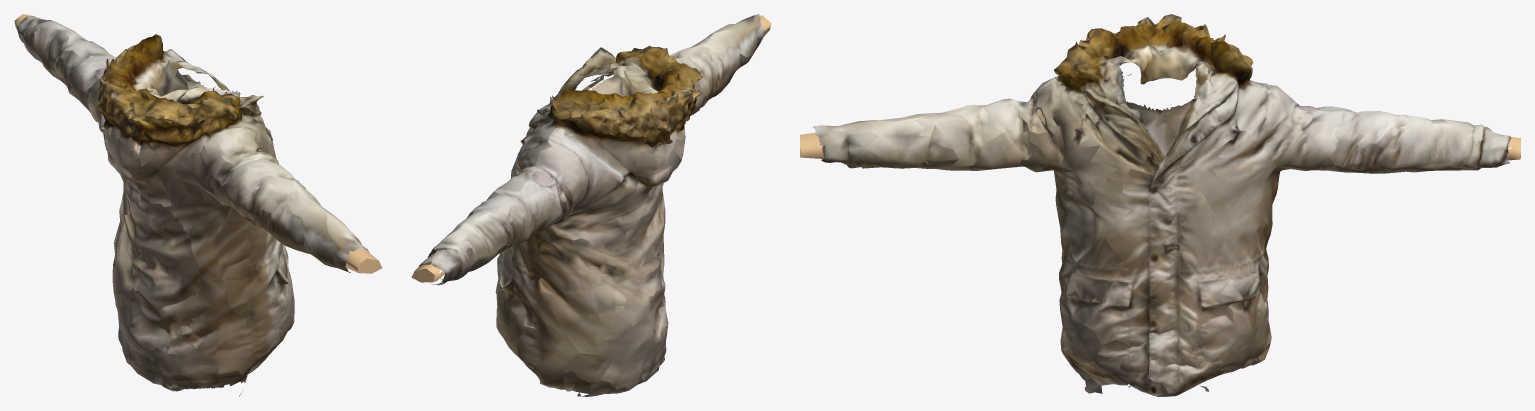
The model's file is coat.glb.
The picture shows the model from 3 angles, left to right: view 1: azimuth 30°, elevation 25°; view 2: azimuth 150°, elevation 25°; view 3: azimuth 270°, elevation 25°; orthographic projection. The views are drawn at different scales.
Parts seen in each view (by area): view 1: Torso.002; view 2: Torso.002; view 3: Torso.002.
Part boxes in pixels (left/top/right/bottom): Torso.002: left=14, top=14, right=382, bottom=396; Torso.002: left=411, top=14, right=771, bottom=396; Torso.002: left=800, top=14, right=1520, bottom=396.
Size of the model in its own units: 0.6019 by 1.02 by 1.96.
2 materials, 1 textured.
